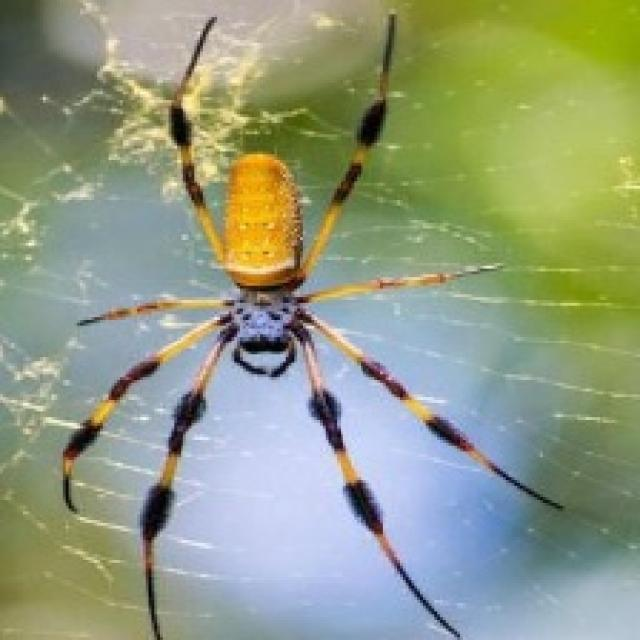Non venomous spider: (91, 81, 428, 507)
